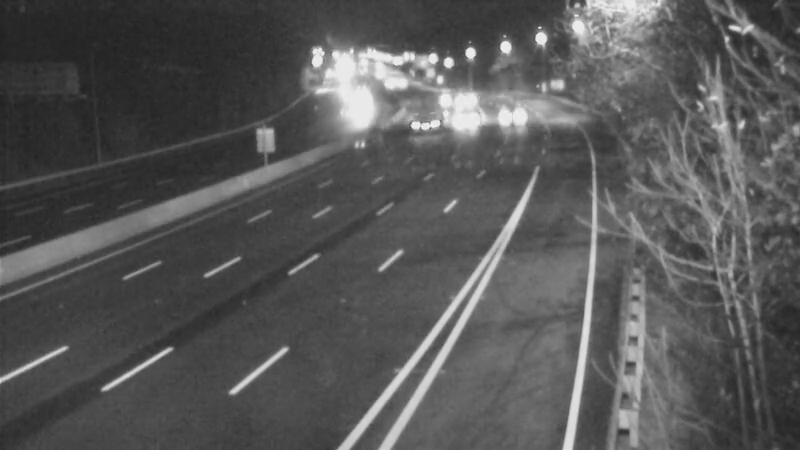vehicle: (439, 71, 489, 121), (403, 75, 453, 125), (438, 100, 488, 150), (480, 94, 530, 144), (331, 84, 381, 134)
